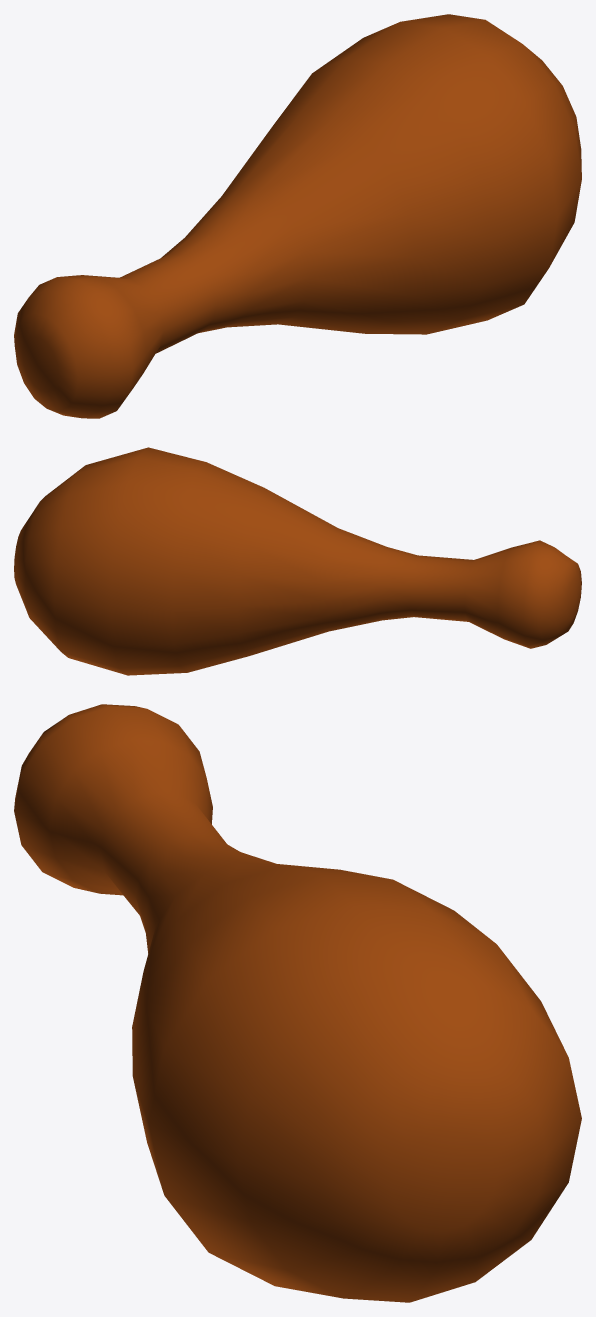
Rendered from chicken.fbx.
3 views of the same model, one above another, from view 1: azimuth 30°, elevation 25°; view 2: azimuth 150°, elevation 25°; view 3: azimuth 270°, elevation 25° (orthographic). The views are drawn at different scales.
Parts seen in each view (by area): view 1: #chicken; view 2: #chicken; view 3: #chicken.
Part boxes in pixels (x1,y1,x2,y2): #chicken: (14,14,581,418); #chicken: (14,447,581,675); #chicken: (14,704,581,1302).
Size of the model in its own units: 169 by 71.76 by 95.87.
